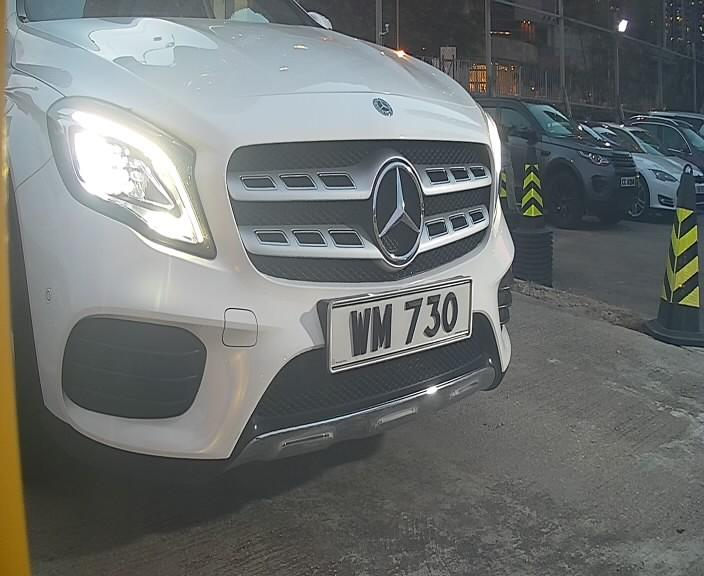License Plate: (305, 273, 484, 373)
